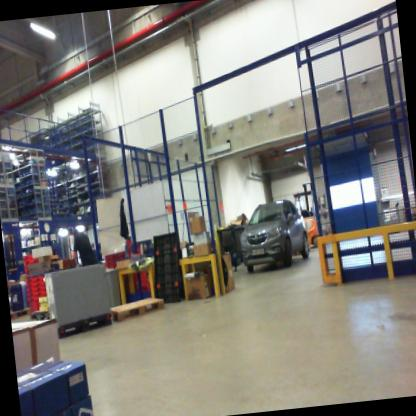forklift: (291, 177, 325, 251)
pallet: (107, 294, 169, 327), (29, 306, 58, 324), (10, 305, 32, 321)
small_load_carrier: (126, 264, 150, 285), (35, 294, 49, 310), (26, 295, 37, 311), (33, 270, 46, 282), (20, 257, 41, 264), (19, 251, 36, 259), (23, 262, 41, 269), (24, 284, 38, 292), (34, 285, 49, 292), (35, 290, 48, 296), (35, 280, 48, 286), (25, 290, 36, 296), (25, 281, 36, 285)
